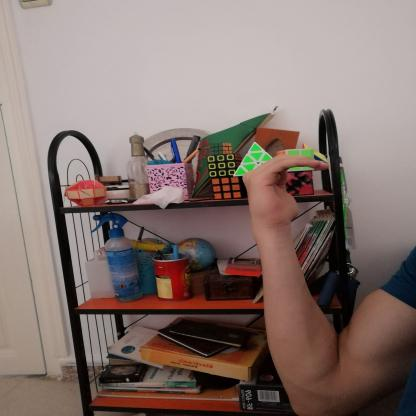HAA: (228, 146, 337, 232)
